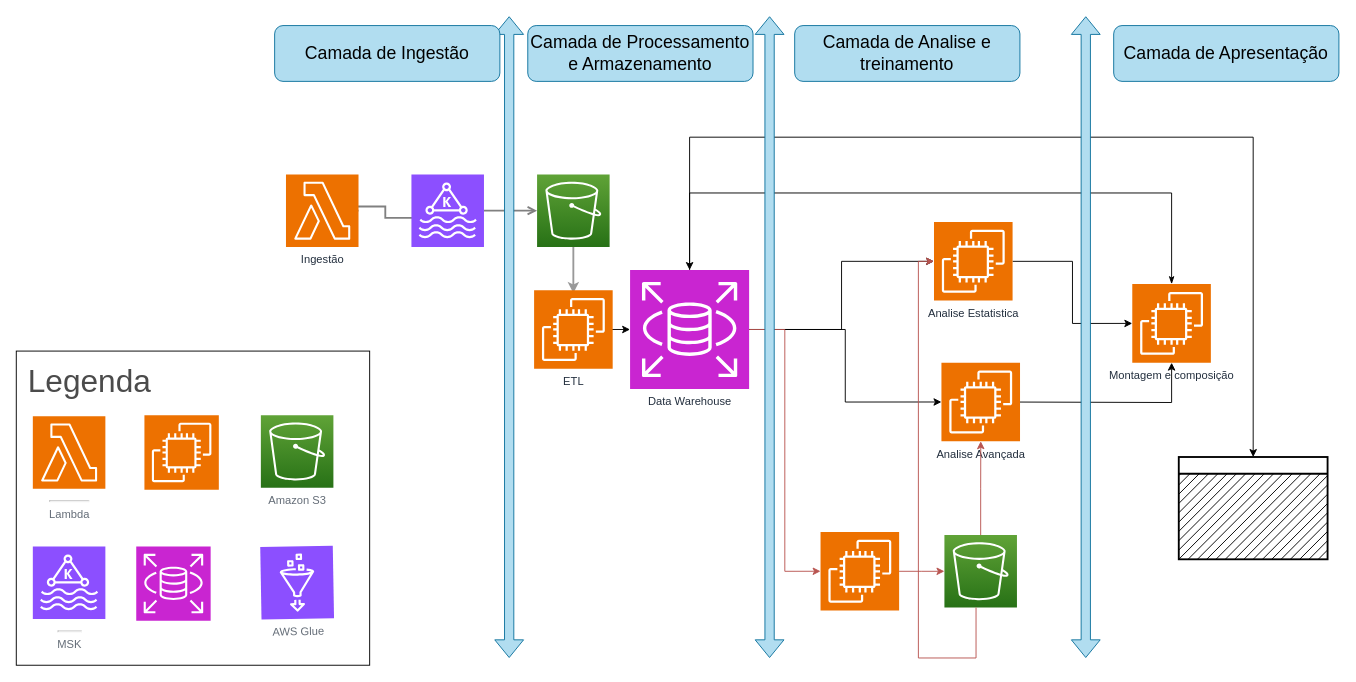
Image size: 1356x682. Some labels were removed from this diagram. Each missing label, with the centre of its shape:
Dashboard: (x=1252, y=508)
Data Lake: (x=573, y=210)
Data Lake Resultados modelo: (x=980, y=571)
Distrobuição: (x=447, y=210)
EC2: (x=181, y=452)
RDS: (x=173, y=583)
Treinamento: (x=859, y=571)
